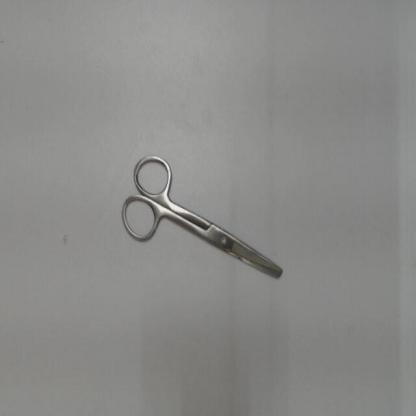Dressing Scissors: (112, 140, 292, 290)
